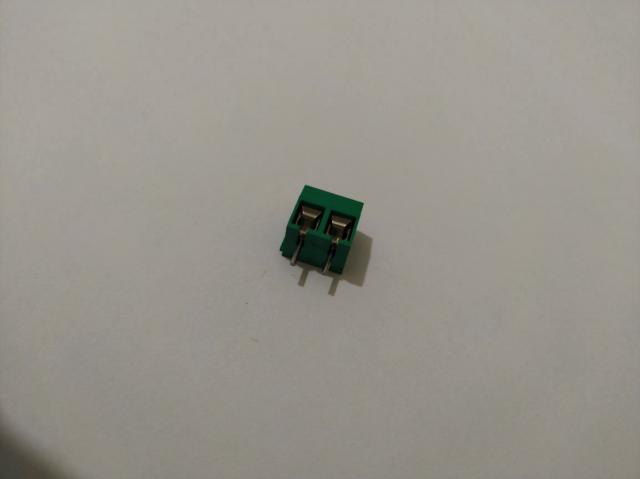terminal_block: (279, 184, 363, 276)
